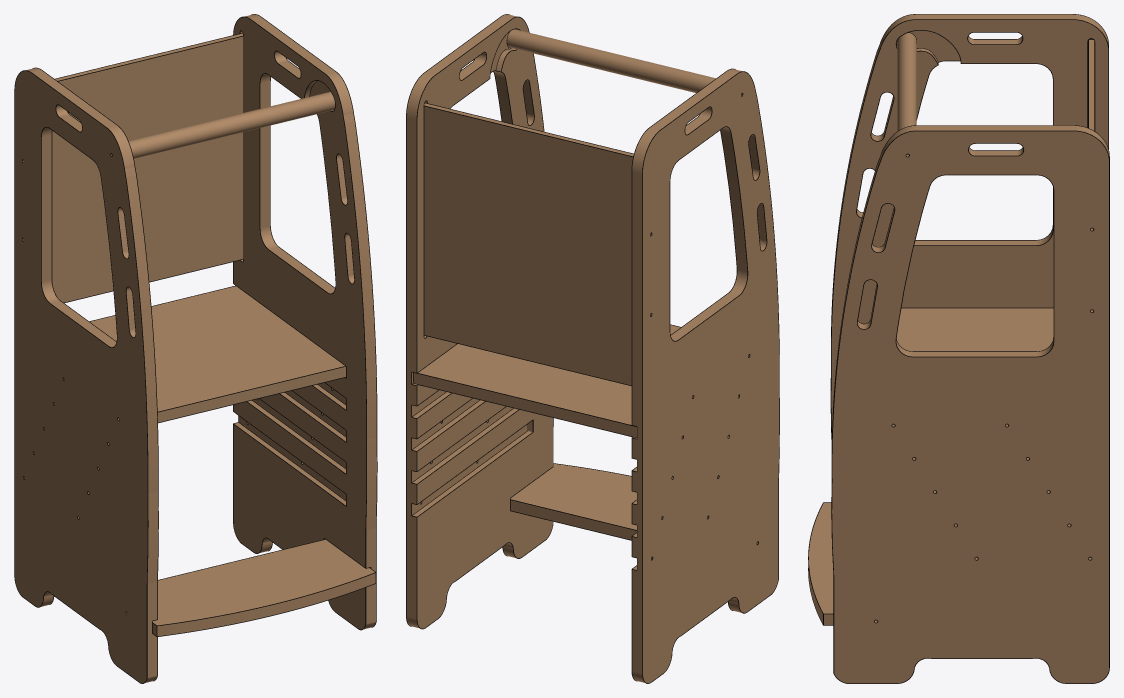
File: modelo-ar.glb
3 renders of one model, left to right at view 1: azimuth 30°, elevation 25°; view 2: azimuth 150°, elevation 25°; view 3: azimuth 270°, elevation 25°, orthographic. The views are drawn at different scales.
Parts seen in each view (by area): view 1: Cuerpo30, Cuerpo29, Cuerpo31, Cuerpo28, Cuerpo32, Cuerpo29_Bordes, Cuerpo30_Bordes, Cuerpo33, Cuerpo32_Bordes, Cuerpo31_Bordes, Cuerpo28_Bordes; view 2: Cuerpo30, Cuerpo31, Cuerpo29, Cuerpo28, Cuerpo32, Cuerpo29_Bordes, Cuerpo30_Bordes, Cuerpo33, Cuerpo31_Bordes, Cuerpo28_Bordes; view 3: Cuerpo29, Cuerpo30, Cuerpo28, Cuerpo29_Bordes, Cuerpo30_Bordes, Cuerpo32, Cuerpo33, Cuerpo31.
Part boxes in pixels (bbox=[...]): Cuerpo30: bbox=[15, 68, 158, 683]; Cuerpo29: bbox=[233, 14, 376, 629]; Cuerpo31: bbox=[52, 33, 243, 302]; Cuerpo28: bbox=[90, 286, 345, 422]; Cuerpo32: bbox=[152, 539, 375, 636]; Cuerpo29_Bordes: bbox=[233, 14, 377, 630]; Cuerpo30_Bordes: bbox=[14, 67, 158, 683]; Cuerpo33: bbox=[128, 91, 334, 158]; Cuerpo32_Bordes: bbox=[152, 539, 376, 636]; Cuerpo31_Bordes: bbox=[55, 33, 243, 303]; Cuerpo28_Bordes: bbox=[89, 285, 345, 423]; Cuerpo30: bbox=[632, 69, 779, 683]; Cuerpo31: bbox=[424, 103, 633, 385]; Cuerpo29: bbox=[406, 14, 552, 628]; Cuerpo28: bbox=[413, 325, 680, 437]; Cuerpo32: bbox=[510, 463, 636, 539]; Cuerpo29_Bordes: bbox=[406, 14, 553, 629]; Cuerpo30_Bordes: bbox=[631, 68, 779, 683]; Cuerpo33: bbox=[507, 29, 715, 92]; Cuerpo31_Bordes: bbox=[424, 103, 633, 385]; Cuerpo28_Bordes: bbox=[413, 324, 680, 437]; Cuerpo29: bbox=[832, 125, 1109, 683]; Cuerpo30: bbox=[831, 14, 1108, 428]; Cuerpo28: bbox=[896, 308, 1053, 351]; Cuerpo29_Bordes: bbox=[831, 125, 1109, 683]; Cuerpo30_Bordes: bbox=[830, 14, 1108, 442]; Cuerpo32: bbox=[808, 503, 833, 624]; Cuerpo33: bbox=[897, 33, 916, 131]; Cuerpo31: bbox=[1089, 40, 1094, 130].
Size of the model in its own units: 0.399 by 0.8811 by 0.4353.
